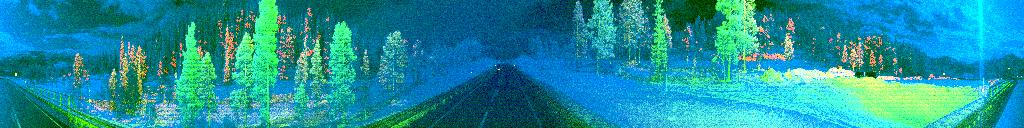pole: (86, 87, 93, 116), (980, 76, 986, 102)
